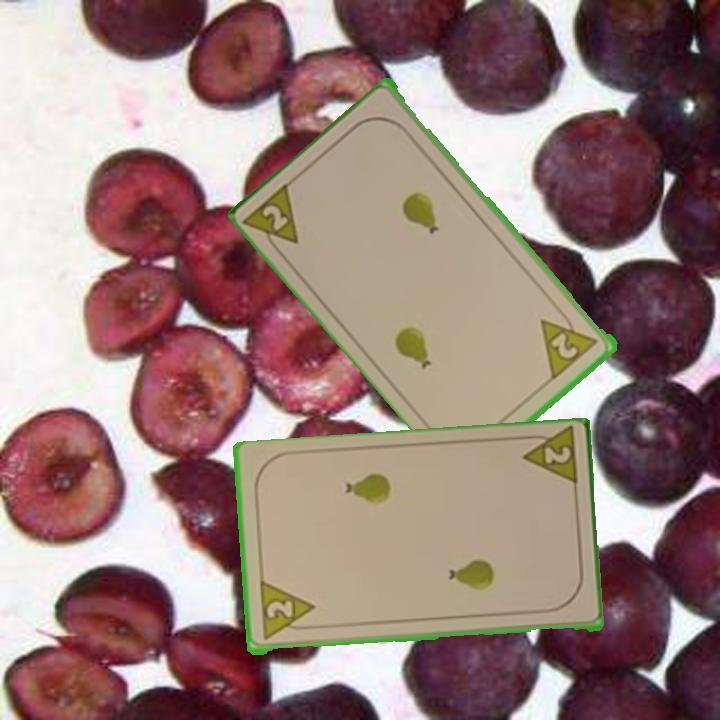2p: (241, 177, 303, 261), (537, 305, 602, 381), (516, 426, 580, 492), (256, 580, 318, 644)
